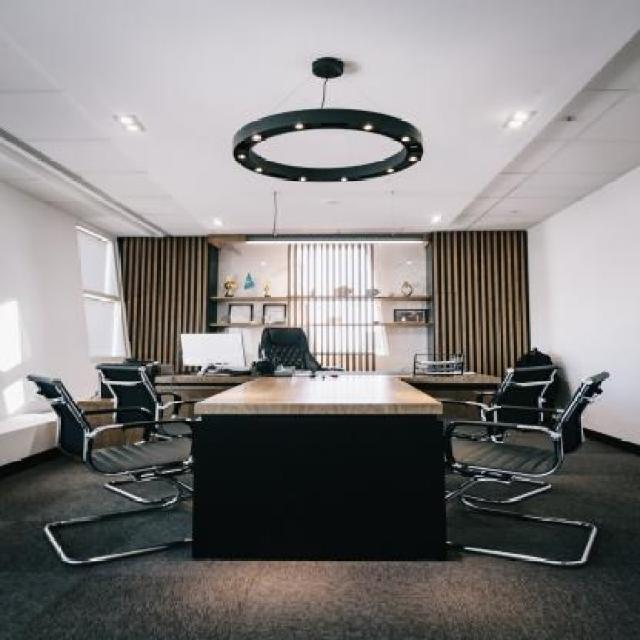Floor: (0, 436, 639, 639), (110, 480, 176, 500), (502, 429, 554, 450), (170, 473, 193, 489), (452, 426, 488, 436), (162, 422, 192, 434)
